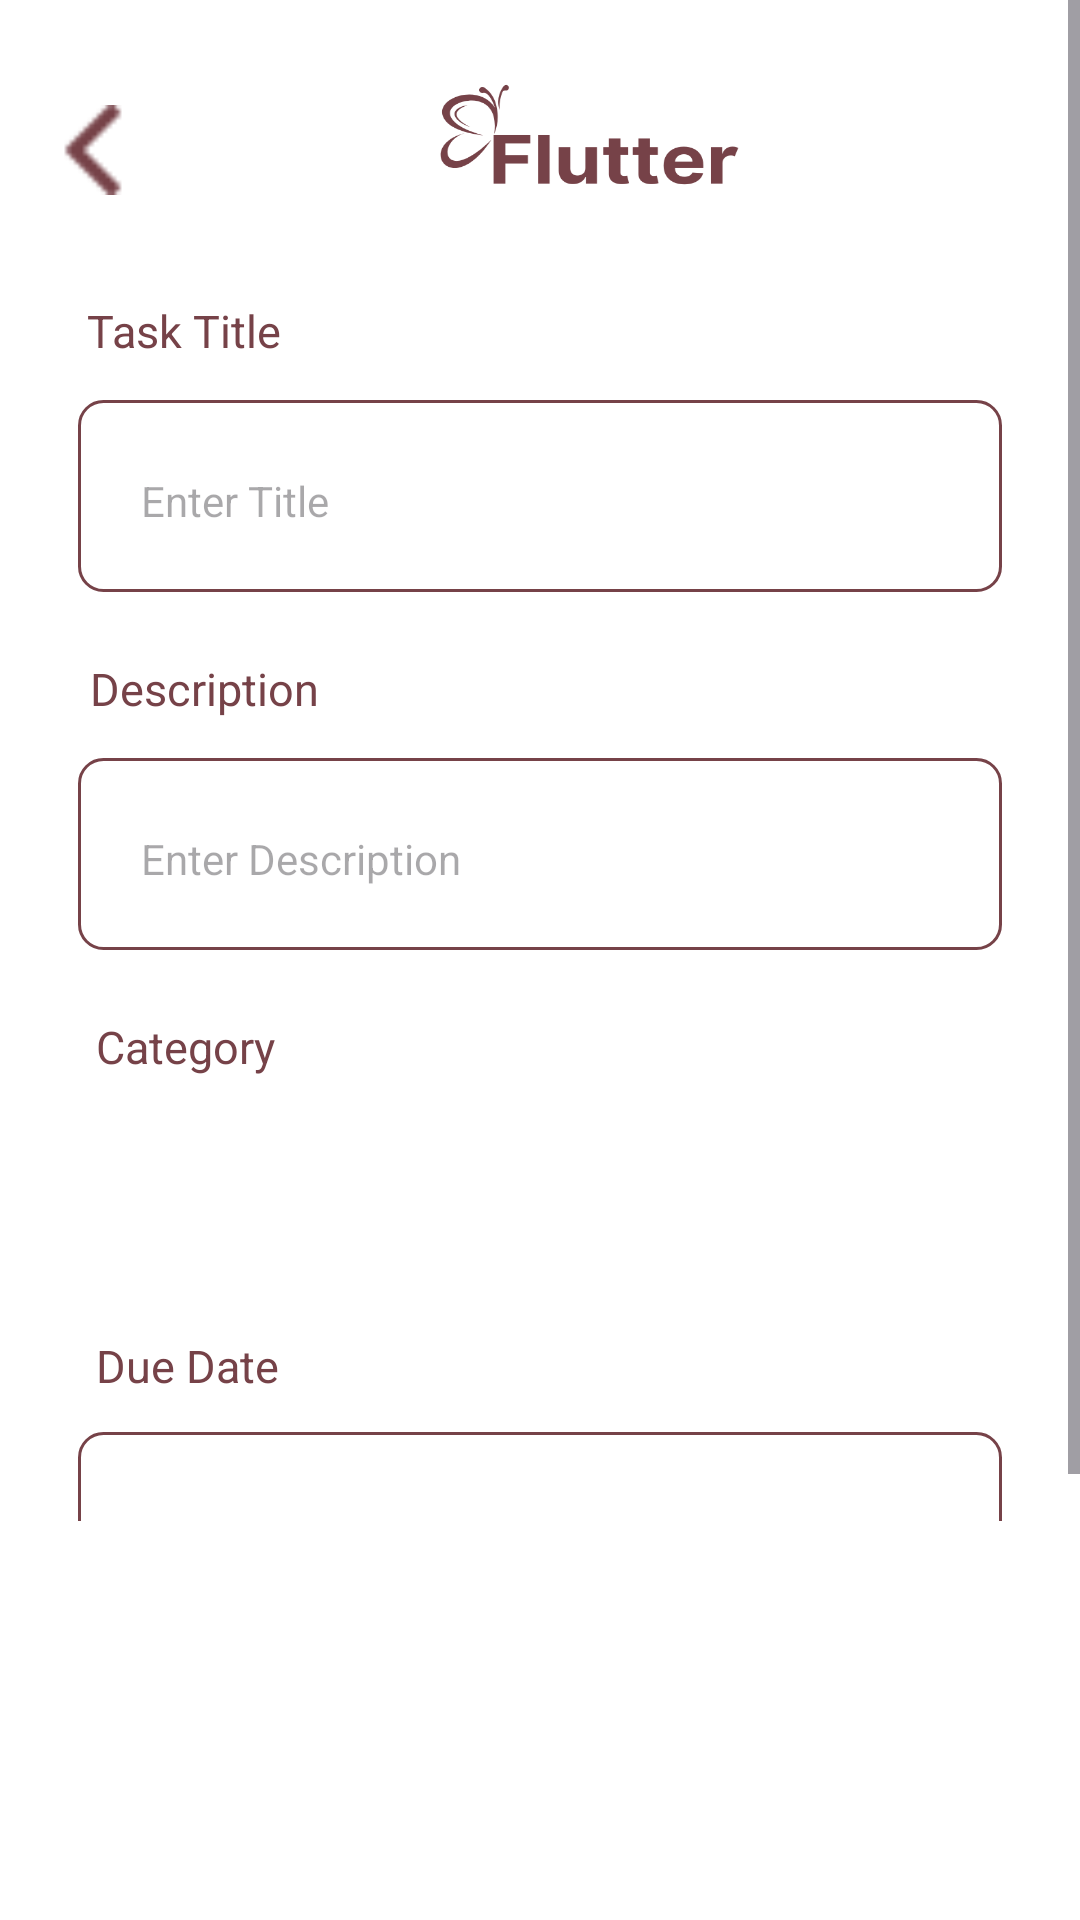

Where to tap for icons on this 1080 x 1920 app screen, as [x,y]:
back: [93,150]
